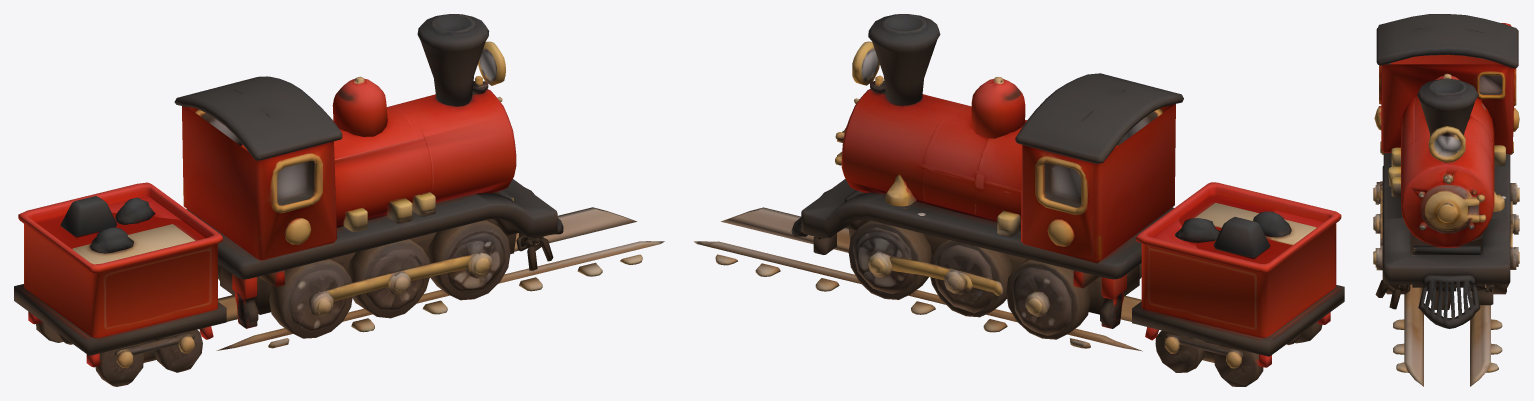
Rendered from train.glb.
3 views of the same model, side by side, from view 1: azimuth 30°, elevation 25°; view 2: azimuth 150°, elevation 25°; view 3: azimuth 270°, elevation 25° (orthographic). The views are drawn at different scales.
Parts seen in each view (by area): view 1: tripo_node_b31386b0-14bd-4195-baa2-fdf4c491aa3e; view 2: tripo_node_b31386b0-14bd-4195-baa2-fdf4c491aa3e; view 3: tripo_node_b31386b0-14bd-4195-baa2-fdf4c491aa3e.
Part boxes in pixels (x1,y1,x2,y2): tripo_node_b31386b0-14bd-4195-baa2-fdf4c491aa3e: (14,14,664,386); tripo_node_b31386b0-14bd-4195-baa2-fdf4c491aa3e: (694,14,1344,386); tripo_node_b31386b0-14bd-4195-baa2-fdf4c491aa3e: (1373,14,1519,386).
Size of the model in its own units: 0.998 by 0.4082 by 0.248.
1 material, 1 textured.
